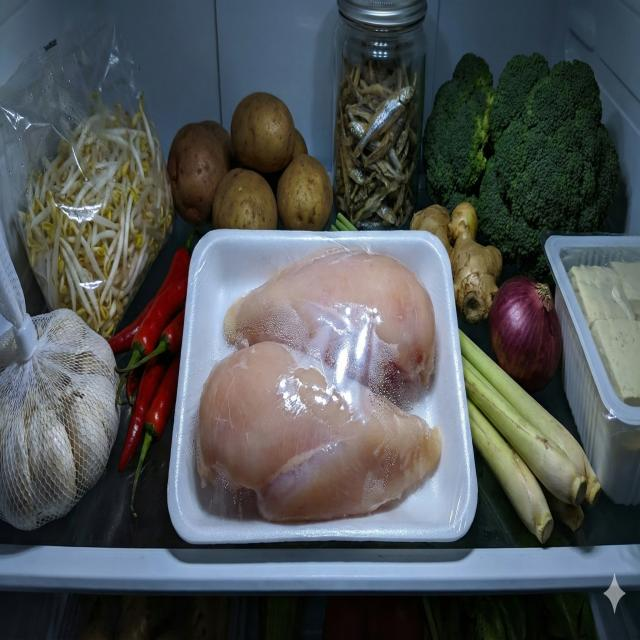anchovies: (334, 58, 419, 232)
bean_sprouts: (14, 90, 176, 342)
brocolli: (422, 48, 624, 287)
chicken: (196, 245, 441, 523)
chili: (106, 238, 194, 522)
ginger: (410, 199, 504, 326)
lemongrass: (459, 329, 601, 546)
onion: (0, 309, 122, 530), (489, 278, 564, 390)
potato: (168, 91, 334, 233)
tofu: (567, 264, 640, 408)
